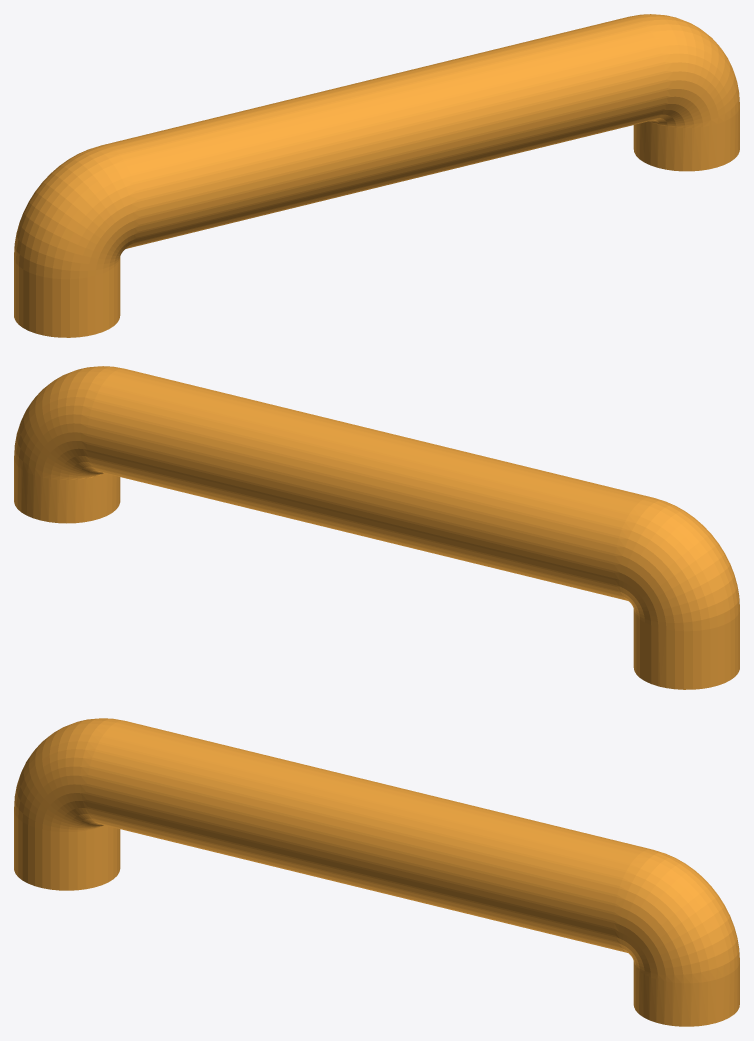
The model's file is DobotNova5Link2.dae.
3 views of the same model, one above another, from view 1: azimuth 30°, elevation 25°; view 2: azimuth 150°, elevation 25°; view 3: azimuth 330°, elevation 25° (orthographic).
Parts seen in each view (by area): view 1: Nova5Link2; view 2: Nova5Link2; view 3: Nova5Link2.
Boxes of the visible parts, x1,y1,x2,y2 form: Nova5Link2: (14,14,739,337); Nova5Link2: (14,366,739,689); Nova5Link2: (14,718,739,1026).
Bounding box in the file's own units: 0.4903 × 0.0635 × 0.1021.
